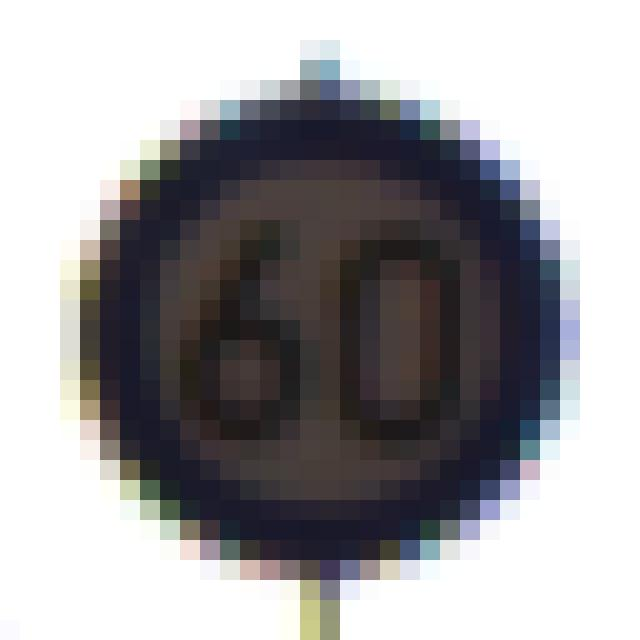SPEED-LIMIT-60: (62, 68, 608, 589)
